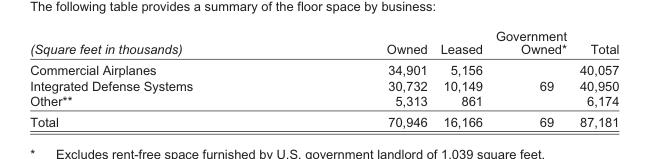table: (29, 28, 618, 128)
table column: (29, 28, 289, 128), (289, 28, 433, 128), (488, 28, 572, 128), (433, 28, 488, 128), (572, 28, 618, 128)
table column header: (29, 28, 618, 59)
table row: (29, 28, 618, 59), (29, 59, 618, 77), (29, 92, 618, 110), (29, 110, 618, 128), (29, 77, 618, 92)
